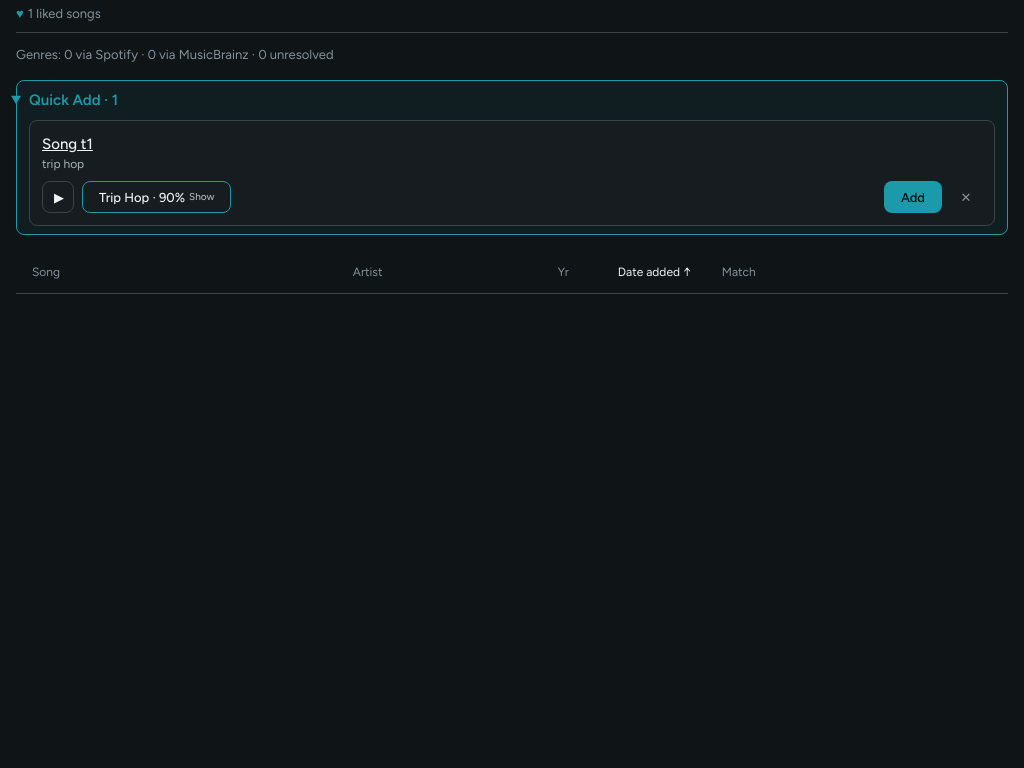
Test: keeps the row removed when the playlist add succeeded but the unsave failed
What coordinates should you click on to do the following:
click the button "Add"
I would click on:
 (913, 197)
Its box is [884,181,942,213].
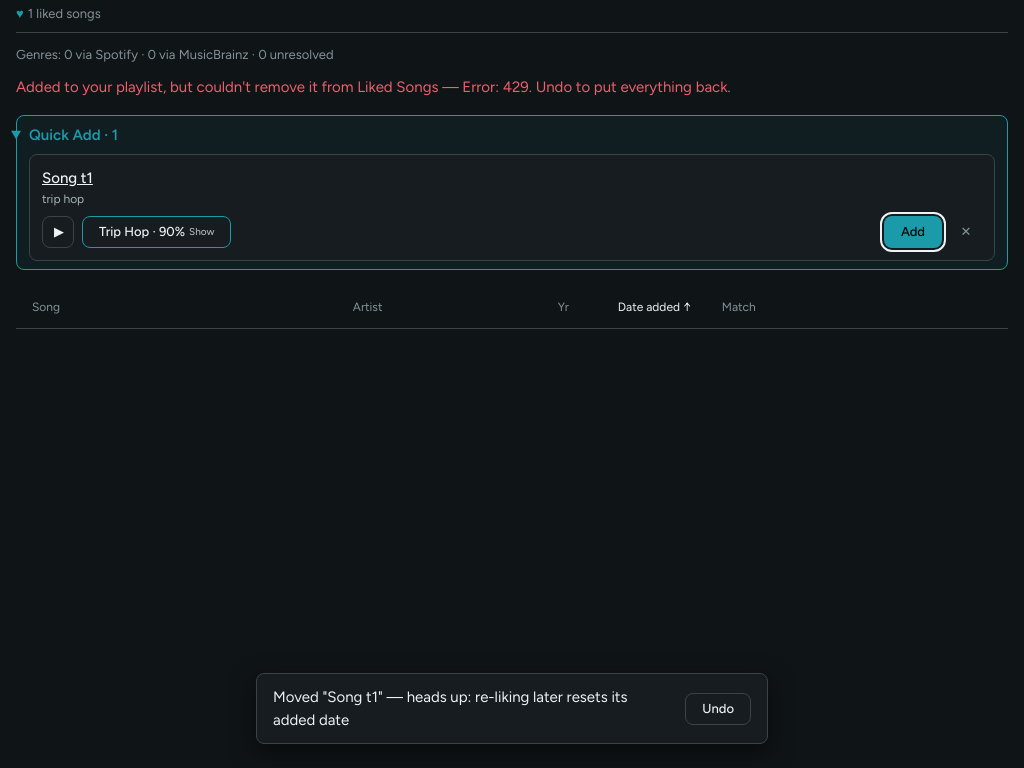
Now the 1st message shows "couldn't remove it from Liked", box [16,78,731,96]
Now the button "Undo" is shown, box [685,692,751,724]
